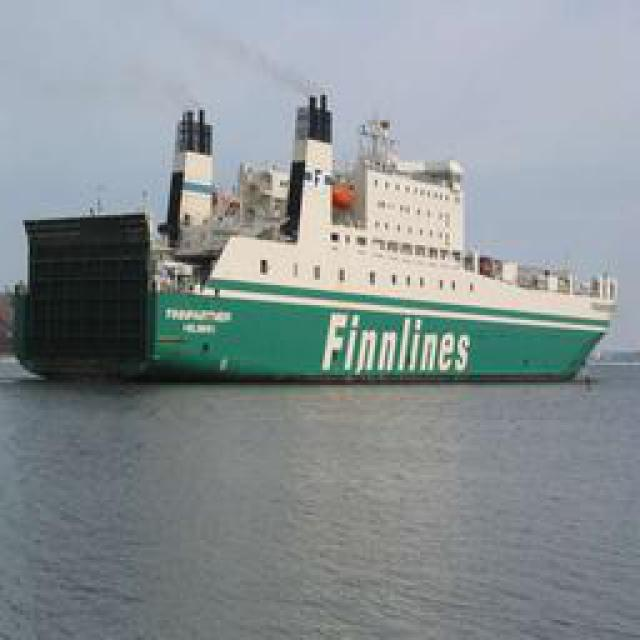Ship: (9, 89, 621, 389)
